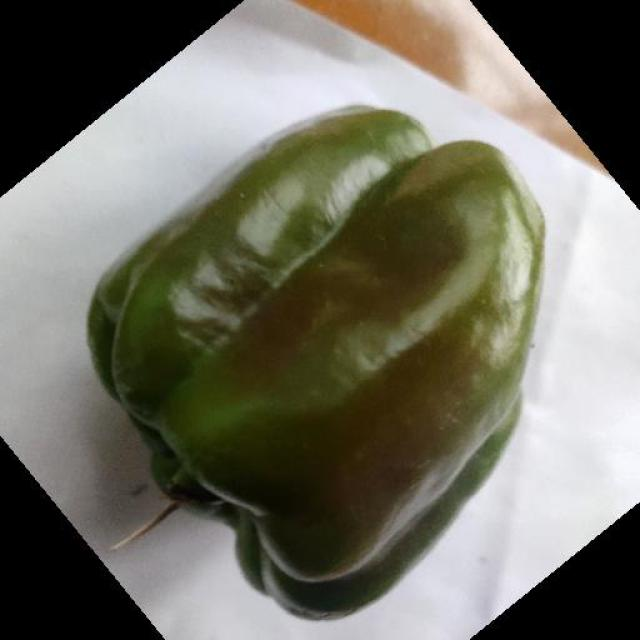Stale_Capsicum: (179, 121, 485, 574)
